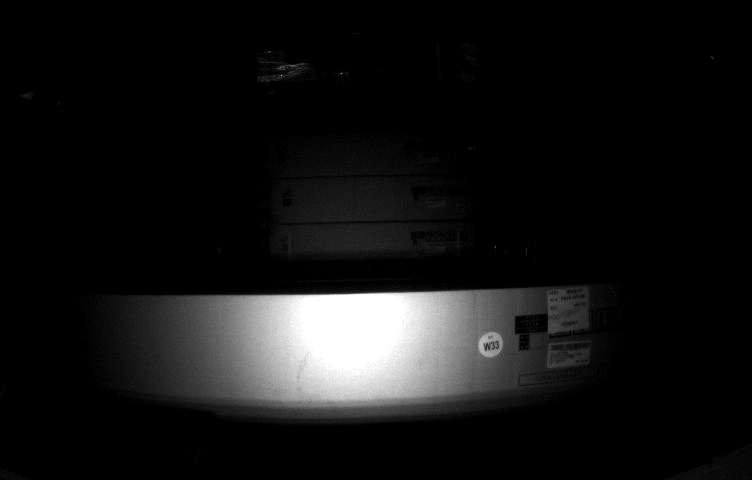True Barcode: (546, 289, 590, 330)
